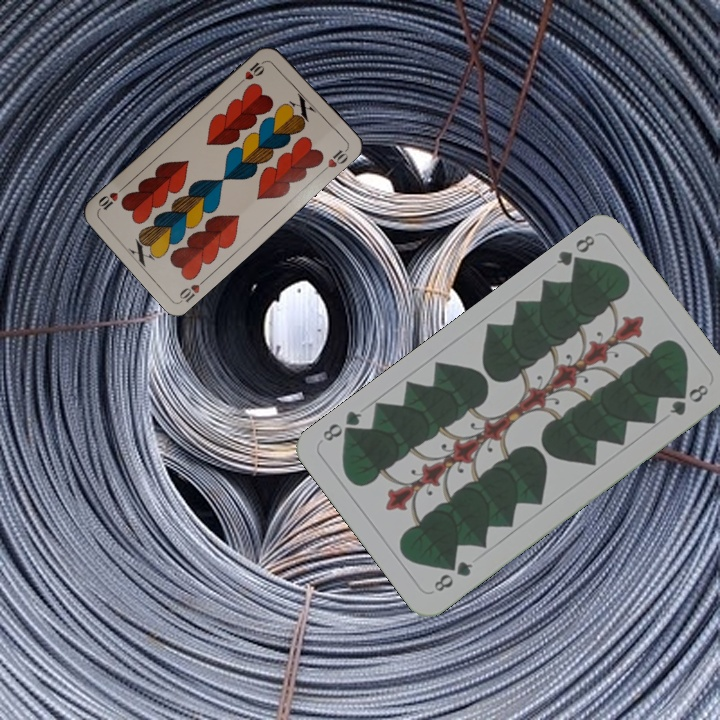G8: (552, 230, 598, 273), (429, 556, 476, 595)
H10: (175, 273, 210, 305), (235, 56, 269, 87)
